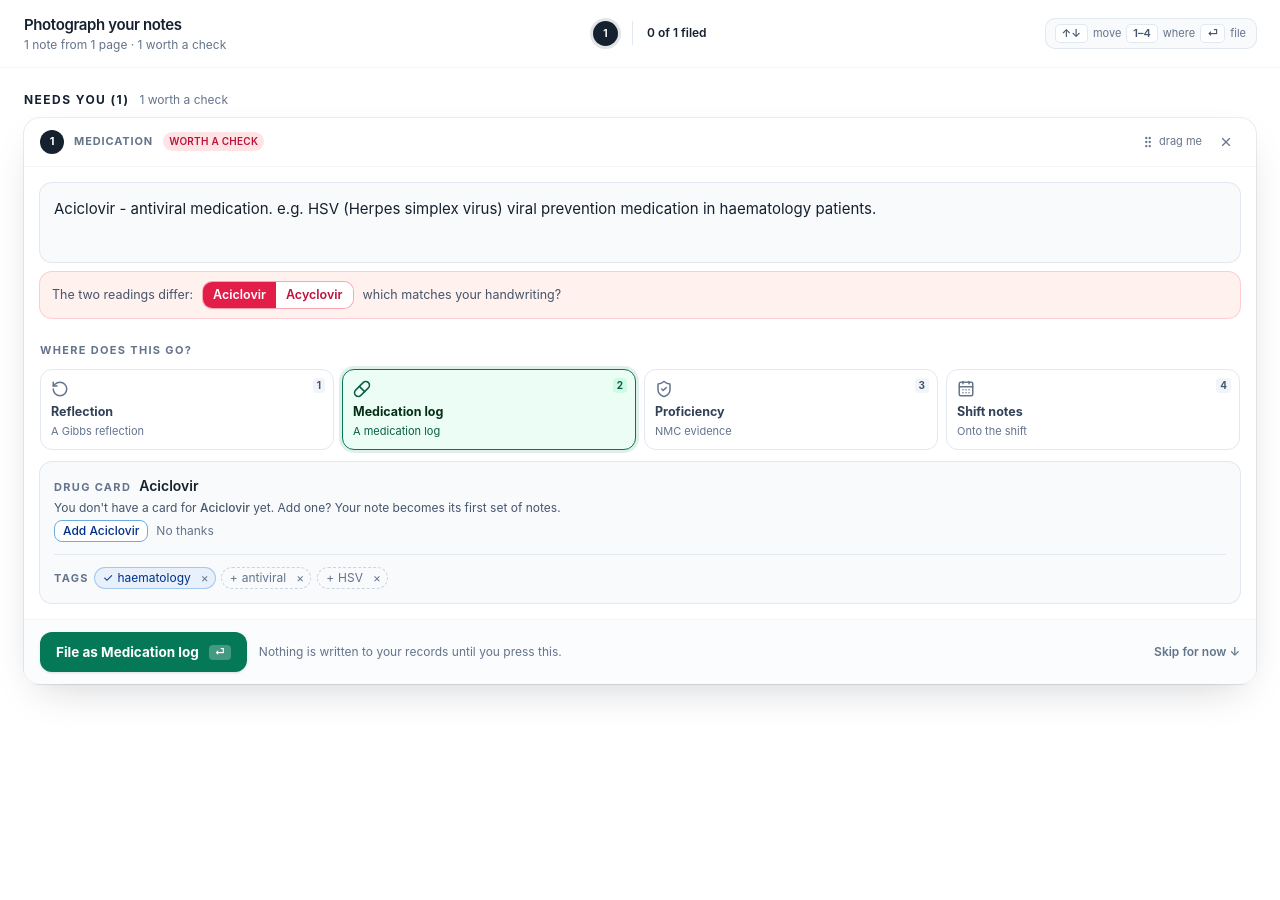
Test: ReviewPanel — the detail drawer only shows what the destination needs › asks nothing extra for shift notes, but still offers the tags
Click the button "Shift notes Onto the shift 4": (990, 411) [946,369,1240,450]
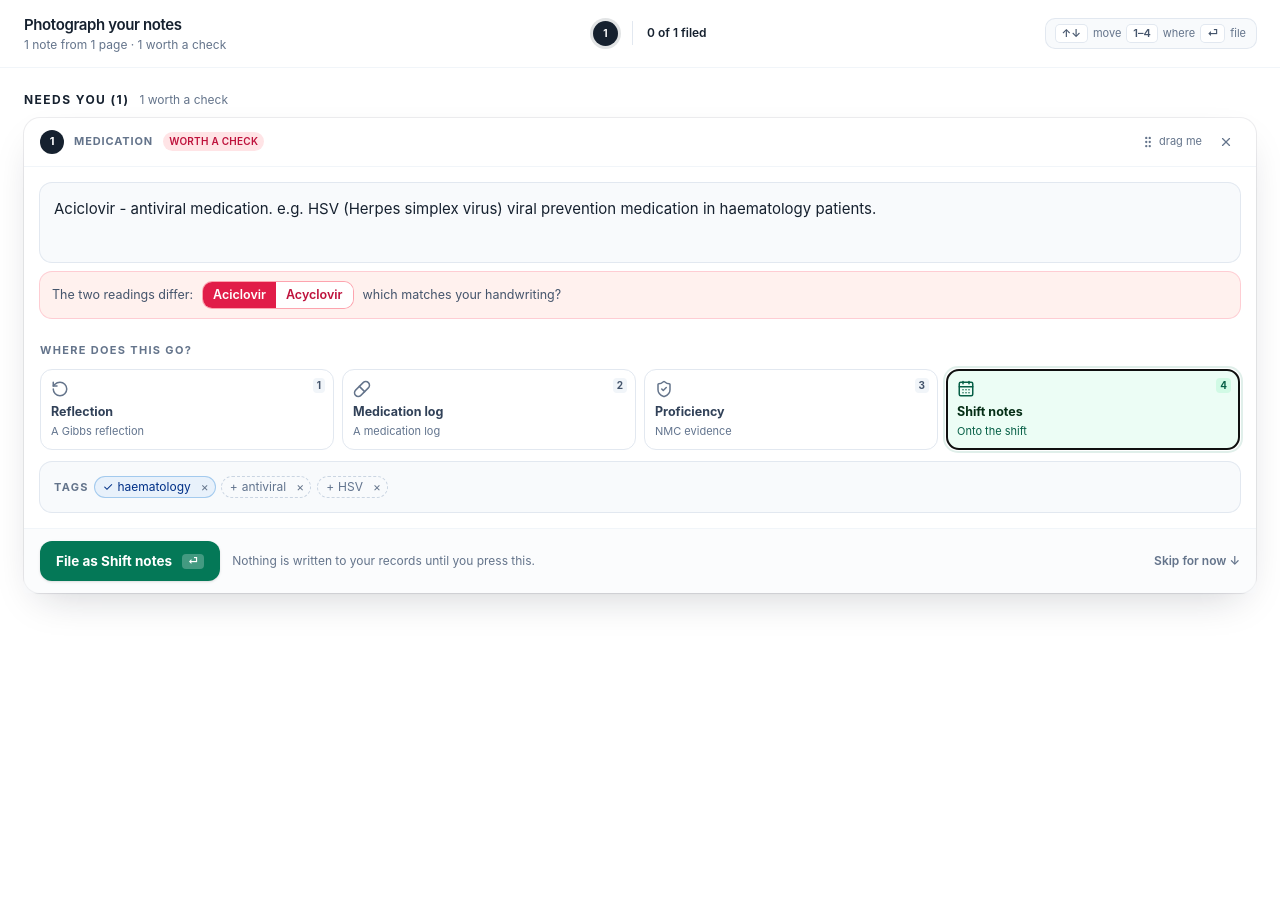
expect the button with aria-label "Don't apply tag haematology" is shown: met, box [99,479,195,495]
expect the text "Drug card" is gone: met
